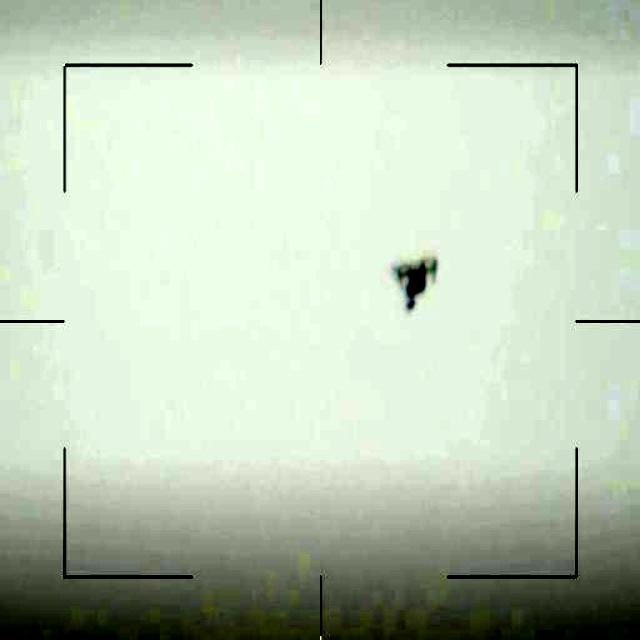bird: (391, 248, 445, 318)
